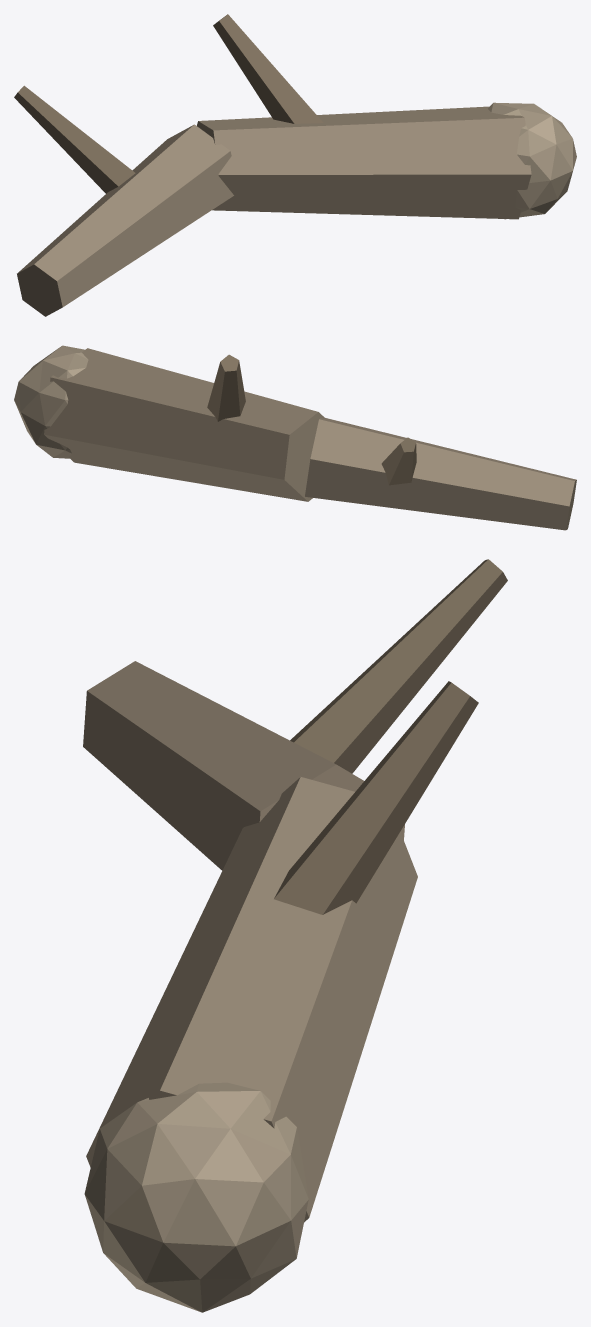
The model's file is Scatter_Driftwood.fbx.
3 views of the same model, one above another, from view 1: azimuth 30°, elevation 25°; view 2: azimuth 150°, elevation 25°; view 3: azimuth 270°, elevation 25° (orthographic). The views are drawn at different scales.
Parts seen in each view (by area): view 1: Driftwood; view 2: Driftwood; view 3: Driftwood.
Boxes of the visible parts, x1=… form: Driftwood: x1=14, y1=14, x2=576, y2=316; Driftwood: x1=14, y1=345, x2=576, y2=530; Driftwood: x1=83, y1=559, x2=507, y2=1312.
Bounding box in the file's own units: 7.54 × 2.66 × 2.56.
